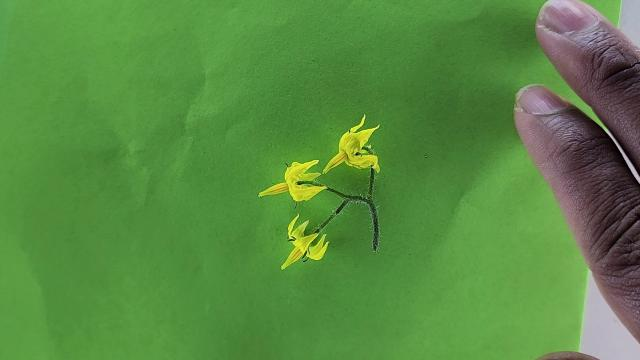Anthesis: (321, 114, 382, 177), (258, 158, 330, 206), (279, 214, 330, 272)
